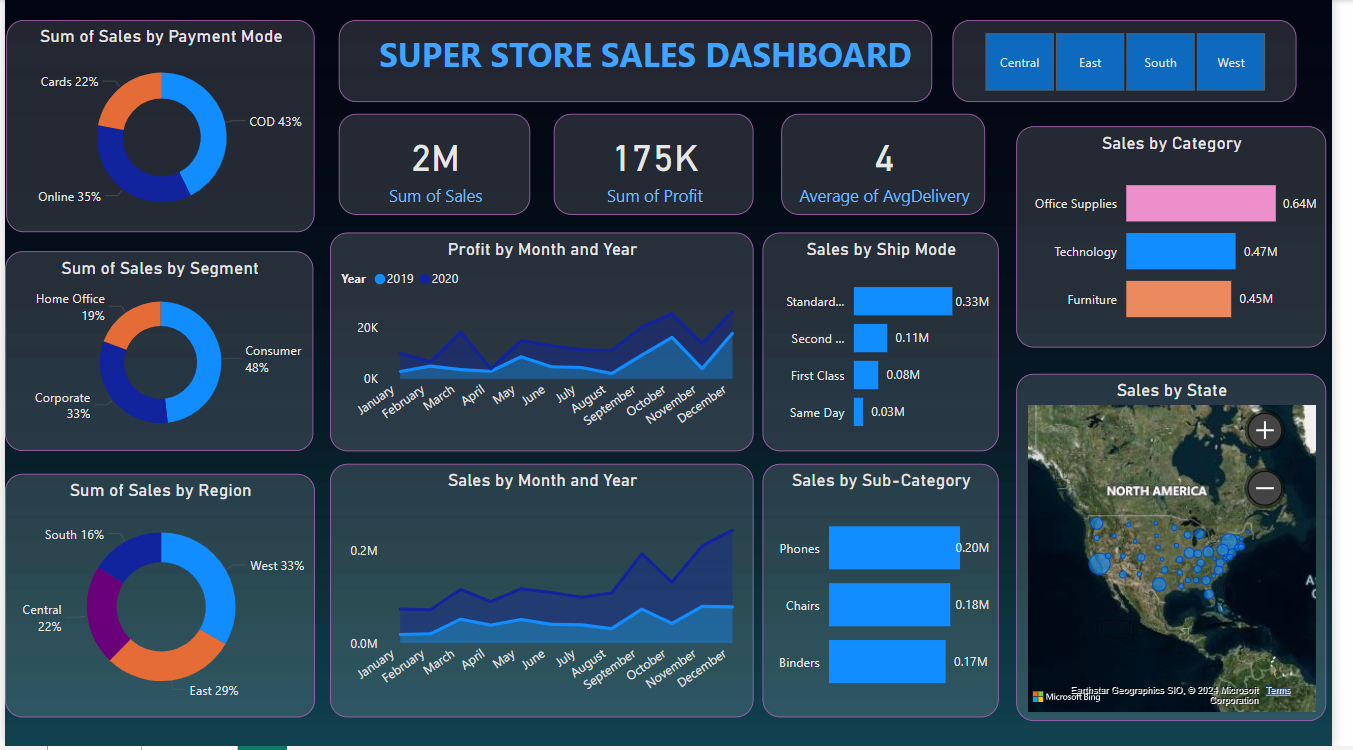

The dashboard page shown, as its layout file describes it:
{"tool":"powerbi","page":{"name":"Page 1","canvas":[1280,720],"ordinal":0},"visuals":[{"type":"clusteredBarChart","title":"Sales by Category","fields":{"Category":["SuperStore_Sales_Dataset.Category"],"Y":["Sum(SuperStore_Sales_Dataset.Sales)"]},"box":[975.7,121.8,299.1,213.5],"z":0},{"type":"clusteredBarChart","title":"Sales by Sub-Category","fields":{"Y":["Sum(SuperStore_Sales_Dataset.Sales)"],"Category":["SuperStore_Sales_Dataset.Sub-Category"]},"box":[730.9,447.4,227.9,244.8],"z":1000},{"type":"clusteredBarChart","title":"Sales by Ship Mode","fields":{"Y":["Sum(SuperStore_Sales_Dataset.Sales)"],"Category":["SuperStore_Sales_Dataset.Ship Mode"]},"box":[730.9,224.3,227.9,211.1],"z":2000},{"type":"stackedAreaChart","title":"Sales by Month and Year","fields":{"Y":["Sum(SuperStore_Sales_Dataset.Sales)"],"Category":["SuperStore_Sales_Dataset.Order Date.Variation.Date Hierarchy.Month","SuperStore_Sales_Dataset.Order Date.Variation.Date Hierarchy.Day"],"Series":["SuperStore_Sales_Dataset.Order Date.Variation.Date Hierarchy.Year"]},"box":[313.6,447.4,408.8,244.8],"z":3000},{"type":"stackedAreaChart","title":"Profit by Month and Year","fields":{"Category":["SuperStore_Sales_Dataset.Order Date.Variation.Date Hierarchy.Month","SuperStore_Sales_Dataset.Order Date.Variation.Date Hierarchy.Day"],"Series":["SuperStore_Sales_Dataset.Order Date.Variation.Date Hierarchy.Year"],"Y":["Sum(SuperStore_Sales_Dataset.Profit)"]},"box":[313.6,224.3,408.8,211.1],"z":4000},{"type":"map","title":"Sales by State","fields":{"Category":["SuperStore_Sales_Dataset.State"],"Size":["Sum(SuperStore_Sales_Dataset.Sales)"]},"box":[975.7,360.6,299.1,335.3],"z":5000},{"type":"donutChart","fields":{"Category":["SuperStore_Sales_Dataset.Segment"],"Y":["Sum(SuperStore_Sales_Dataset.Sales)"]},"box":[0,242.4,297.9,193],"z":6000},{"type":"donutChart","fields":{"Y":["Sum(SuperStore_Sales_Dataset.Sales)"],"Category":["SuperStore_Sales_Dataset.Region"]},"box":[0,457.1,299.1,235.2],"z":7000},{"type":"donutChart","fields":{"Y":["Sum(SuperStore_Sales_Dataset.Sales)"],"Category":["SuperStore_Sales_Dataset.Payment Mode"]},"box":[1.2,19.3,297.9,205],"z":8000},{"type":"slicer","fields":{"Values":["SuperStore_Sales_Dataset.Region"]},"box":[914.2,19.3,331.7,79.6],"z":9000},{"type":"textbox","box":[322,19.3,572.9,79.6],"z":10000},{"type":"card","fields":{"Values":["Sum(SuperStore_Sales_Dataset.Sales)"]},"box":[322,109.7,184.5,97.7],"z":11000},{"type":"card","fields":{"Values":["Sum(SuperStore_Sales_Dataset.Profit)"]},"box":[529.4,109.7,193,97.7],"z":12000},{"type":"card","fields":{"Values":["Avg(SuperStore_Sales_Dataset.AvgDelivery)"]},"box":[748.9,109.7,196.6,97.7],"z":13000}]}

Visuals, with their boxes in screenshot pixels (x1, y1, x2, y2), scaled from the page's 1280x720 canvas onto the 1353x750 screenshot:
"Sales by Category" clusteredBarChart: crop(1031, 127, 1348, 349)
"Sales by Sub-Category" clusteredBarChart: crop(773, 466, 1013, 721)
"Sales by Ship Mode" clusteredBarChart: crop(773, 234, 1013, 454)
"Sales by Month and Year" stackedAreaChart: crop(331, 466, 764, 721)
"Profit by Month and Year" stackedAreaChart: crop(331, 234, 764, 454)
"Sales by State" map: crop(1031, 376, 1348, 725)
donutChart - SuperStore_Sales_Dataset.Segment x Sum(SuperStore_Sales_Dataset.Sales): crop(0, 253, 315, 454)
donutChart - Sum(SuperStore_Sales_Dataset.Sales) x SuperStore_Sales_Dataset.Region: crop(0, 476, 316, 721)
donutChart - Sum(SuperStore_Sales_Dataset.Sales) x SuperStore_Sales_Dataset.Payment Mode: crop(1, 20, 316, 234)
slicer - SuperStore_Sales_Dataset.Region: crop(966, 20, 1317, 103)
textbox: crop(340, 20, 946, 103)
card - Sum(SuperStore_Sales_Dataset.Sales): crop(340, 114, 535, 216)
card - Sum(SuperStore_Sales_Dataset.Profit): crop(560, 114, 764, 216)
card - Avg(SuperStore_Sales_Dataset.AvgDelivery): crop(792, 114, 999, 216)
